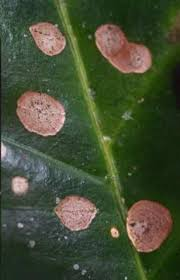ojo de gallo: (22, 2, 178, 265)
